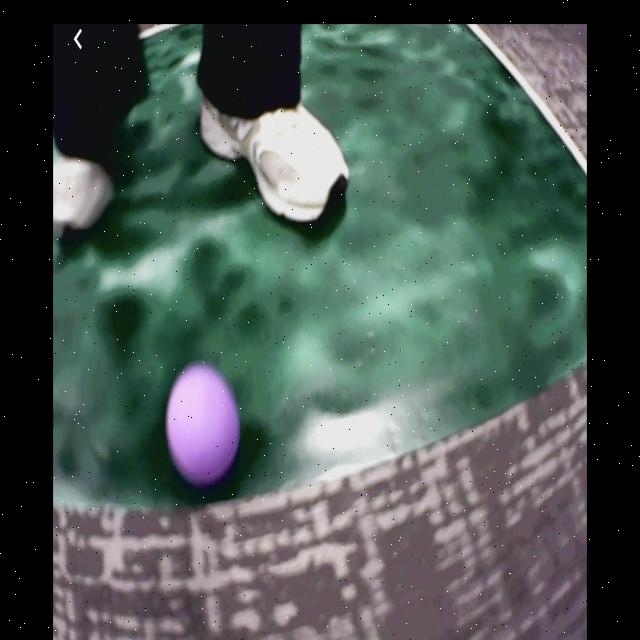ball: (167, 366, 243, 483)
